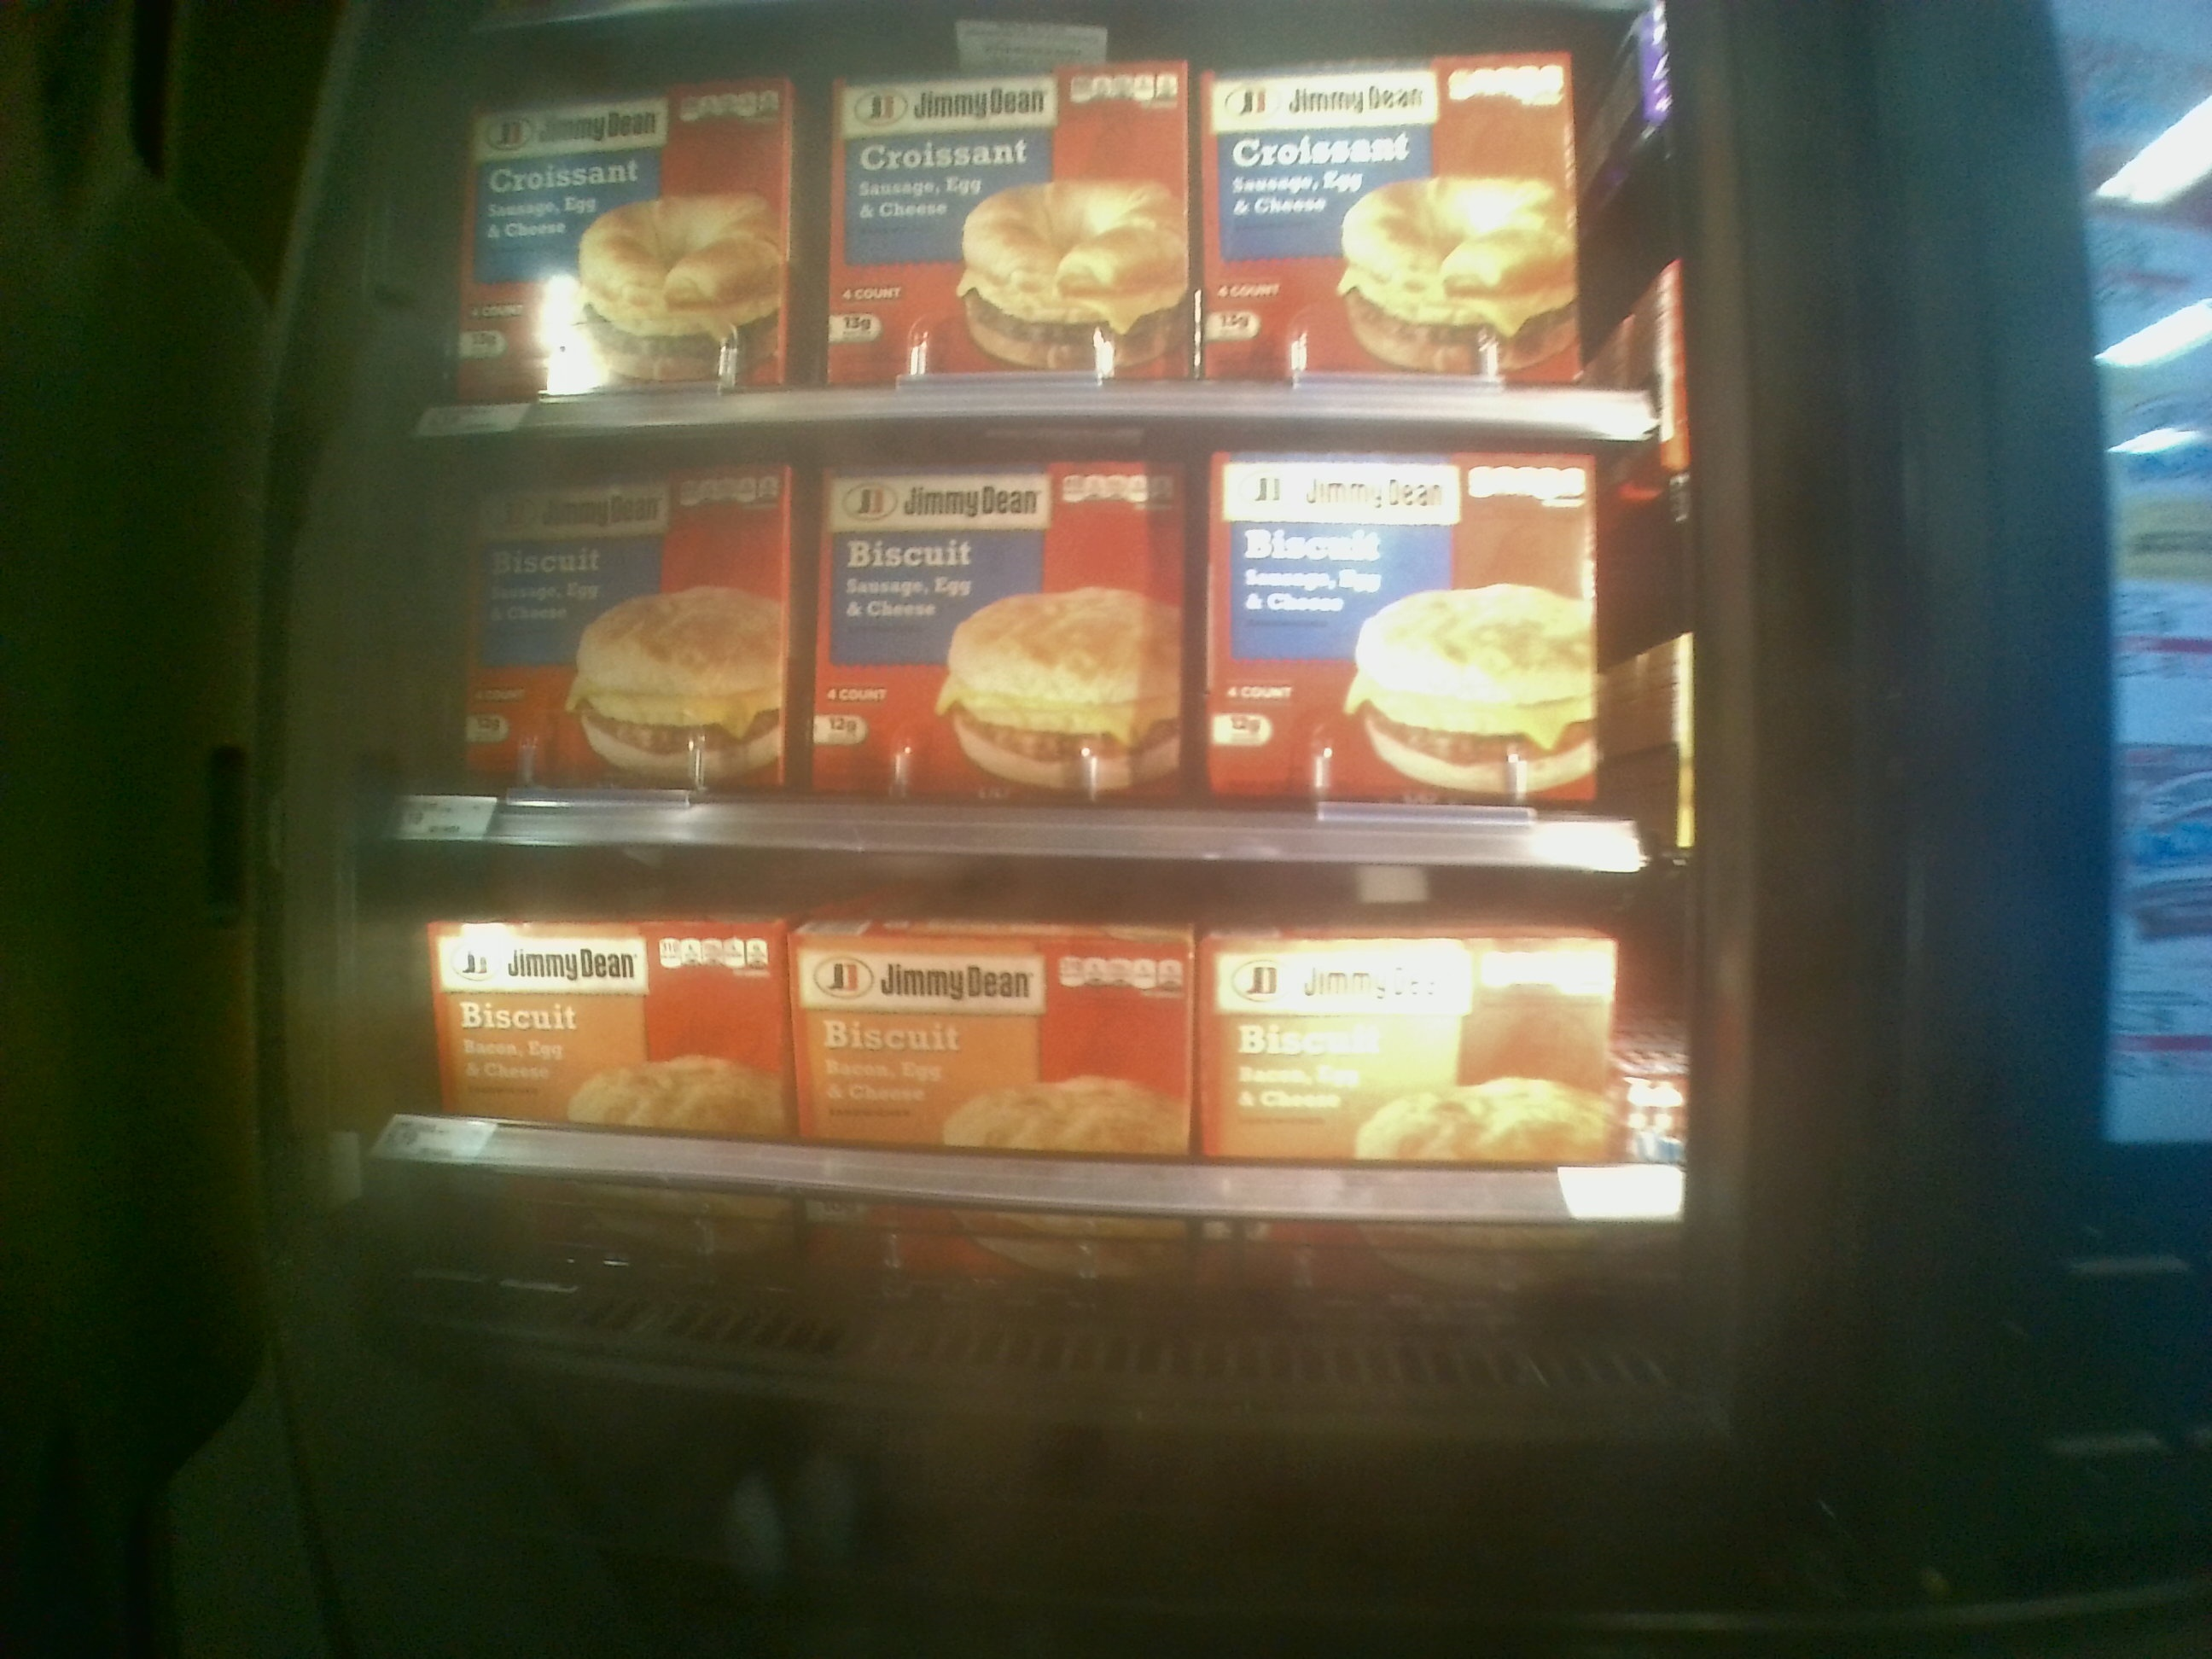shelf: (388, 842, 1721, 1364), (420, 432, 1672, 877), (421, 5, 1653, 430)
